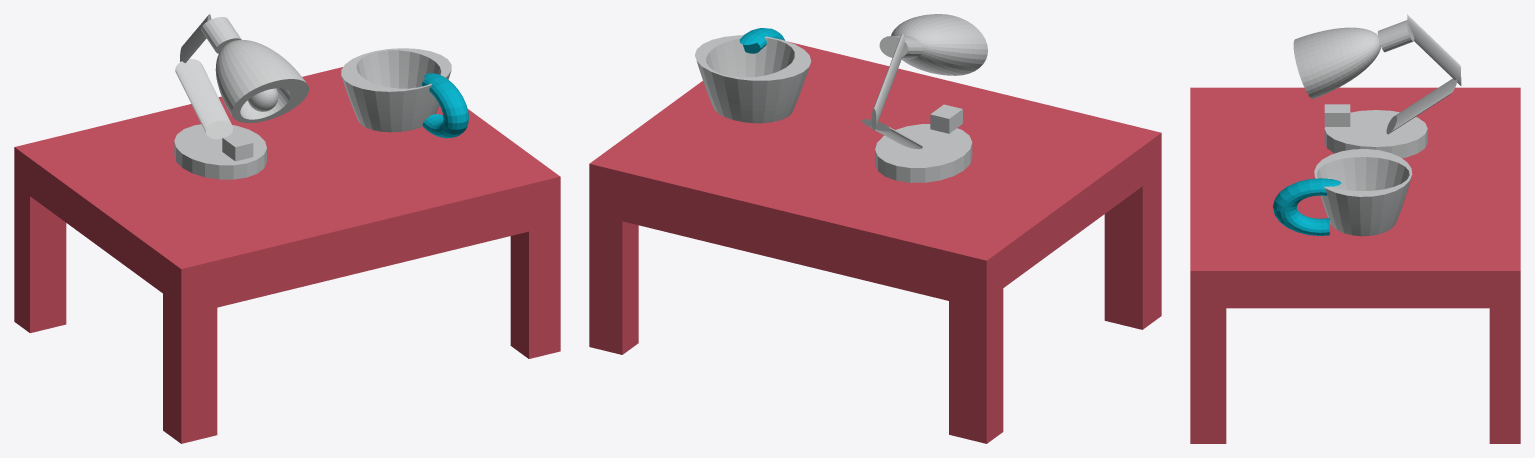
Rendered from Class 149 (1).glb.
3 renders of one model, left to right at view 1: azimuth 30°, elevation 25°; view 2: azimuth 150°, elevation 25°; view 3: azimuth 270°, elevation 25°, orthographic. The views are drawn at different scales.
Parts seen in each view (by area): view 1: Mesh_Mesh_head_geo.001_lambert2SG.001; view 2: Mesh_Mesh_head_geo.001_lambert2SG.001; view 3: Mesh_Mesh_head_geo.001_lambert2SG.001.
Part boxes in pixels (box(x1,y1,x2,y2)): Mesh_Mesh_head_geo.001_lambert2SG.001: box(14, 14, 560, 443); Mesh_Mesh_head_geo.001_lambert2SG.001: box(589, 14, 1161, 443); Mesh_Mesh_head_geo.001_lambert2SG.001: box(1190, 14, 1520, 443).
Size of the model in its own units: 84 by 66.94 by 64.
